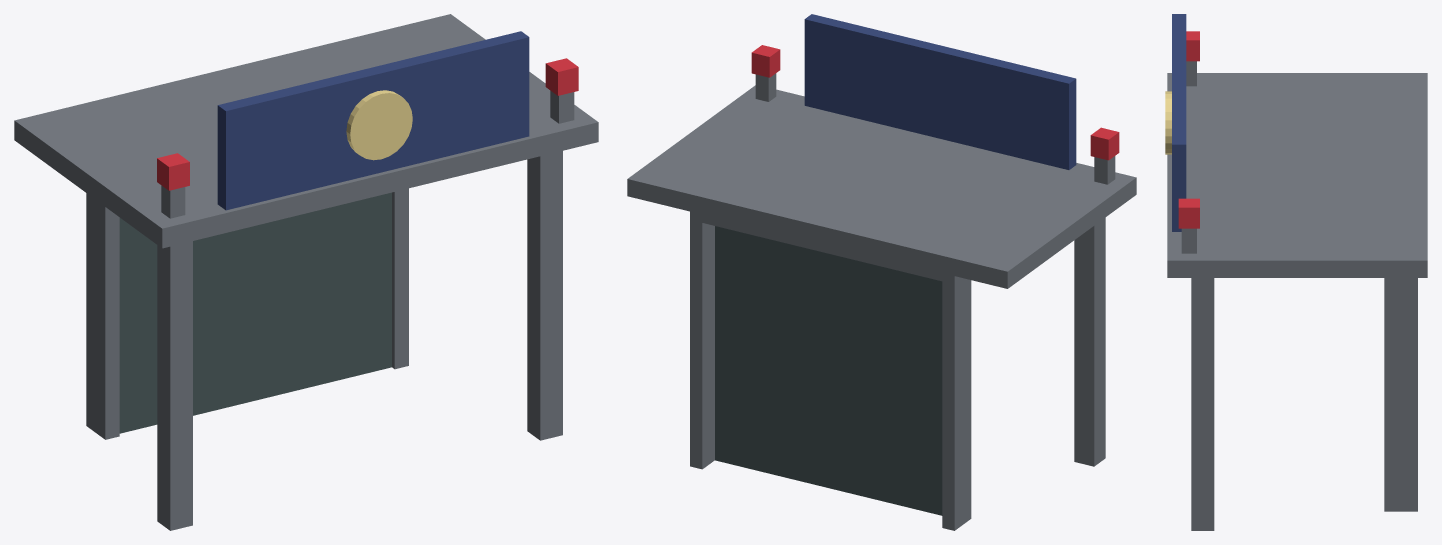
The model's file is entrance.fbx.
The picture shows the model from 3 angles, left to right: view 1: azimuth 30°, elevation 25°; view 2: azimuth 150°, elevation 25°; view 3: azimuth 270°, elevation 25°; orthographic projection. The views are drawn at different scales.
Parts seen in each view (by area): view 1: a1053_entrance; view 2: a1053_entrance; view 3: a1053_entrance.
Part boxes in pixels (<box>): a1053_entrance: <box>14,14,598,530</box>; a1053_entrance: <box>627,14,1136,530</box>; a1053_entrance: <box>1165,14,1427,530</box>.
Size of the model in its own units: 4.6 by 4.2 by 2.72.
